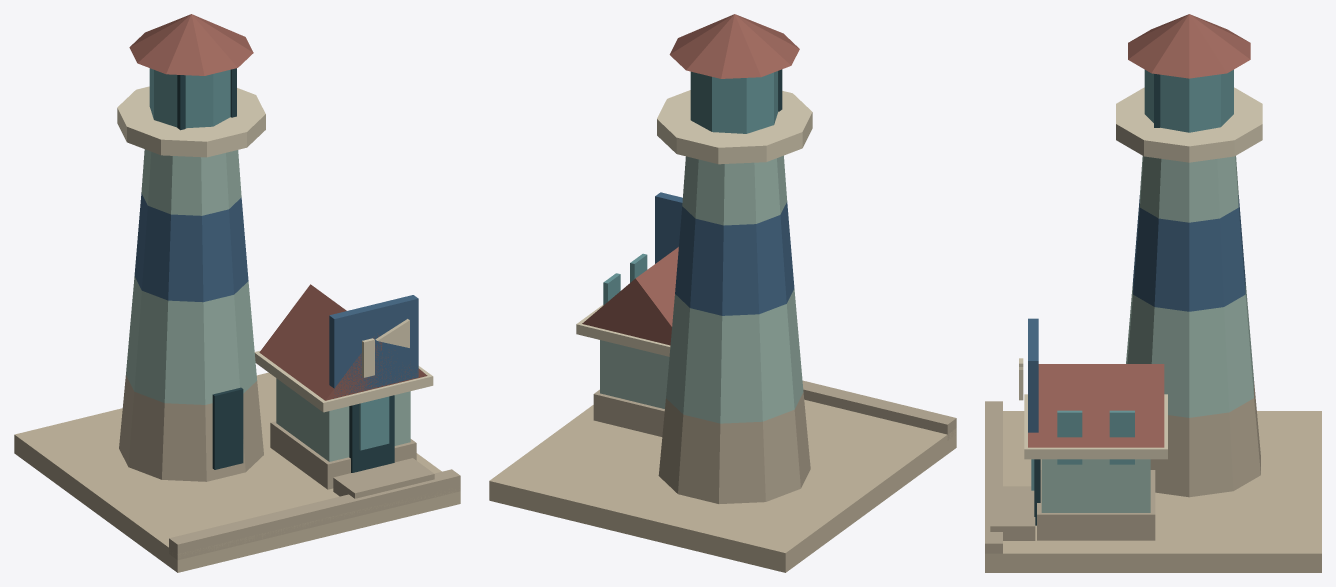
Rendered from lighthouse-seabreeze-complete.glb.
3 views of the same model, side by side, from view 1: azimuth 30°, elevation 25°; view 2: azimuth 150°, elevation 25°; view 3: azimuth 270°, elevation 25° (orthographic). The views are drawn at different scales.
Visible parts, largest first — view 1: lighthouse; view 2: lighthouse; view 3: lighthouse.
Boxes of the visible parts, box(x1,y1,x2,y2) form: lighthouse: box(14, 14, 460, 572); lighthouse: box(489, 14, 956, 572); lighthouse: box(985, 14, 1321, 572).
Size of the model in its own units: 1.88 by 2.91 by 1.88.
